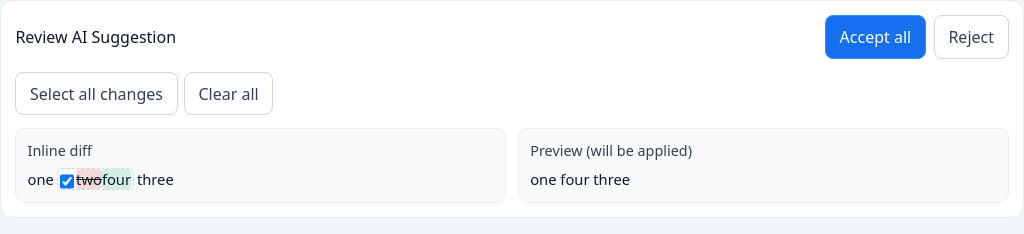
it: TextSuggestionDiffPanel partial acceptance › falls back to the original when every change is cleared
The width and height of the screenshot is (1024, 234).
Click the button "Clear all" at (229, 94), box x1=184 y1=72 x2=273 y2=115
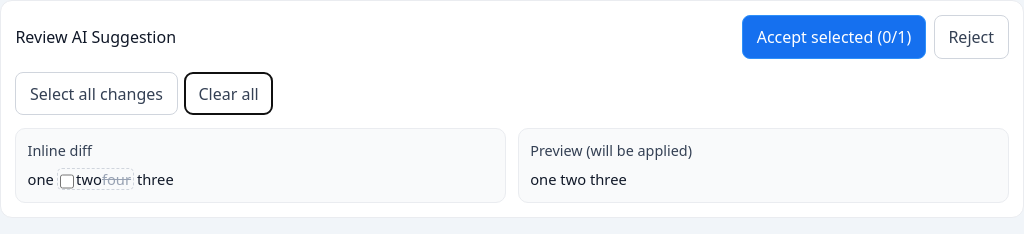
Result: the text named "partial acceptance preview" reads "one two three" at x1=530 y1=169 x2=627 y2=189
